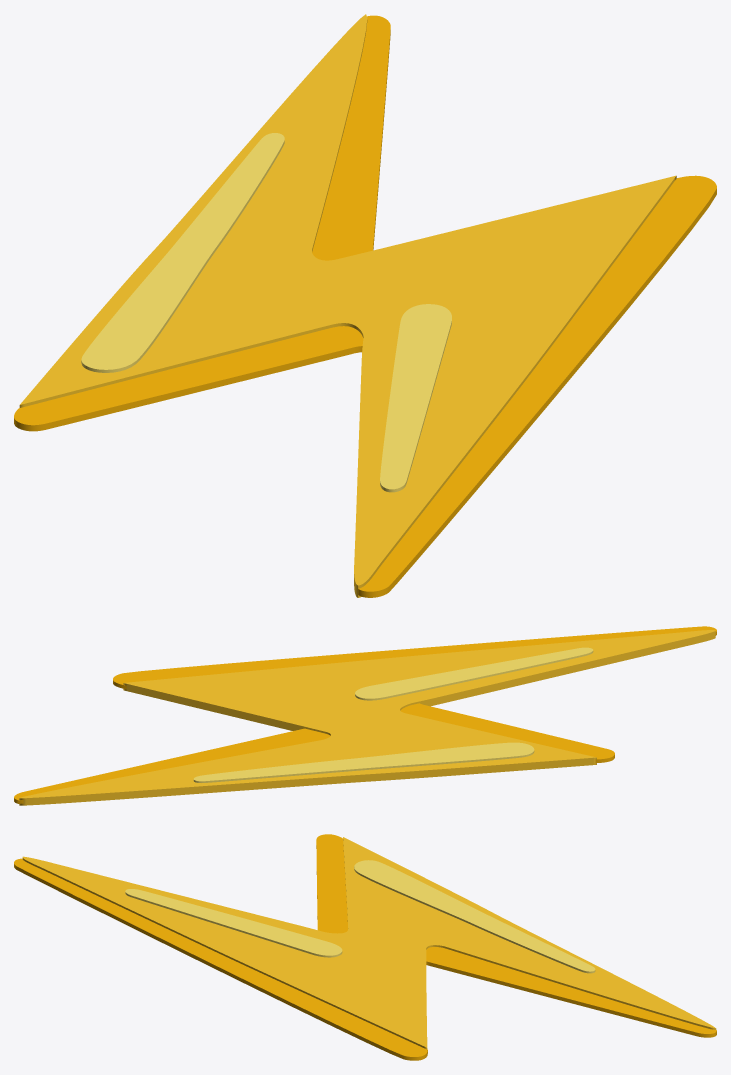
Rendered from emoji_u26a1.glb.
The picture shows the model from 3 angles, top to bottom: view 1: azimuth 30°, elevation 25°; view 2: azimuth 150°, elevation 25°; view 3: azimuth 270°, elevation 25°; orthographic projection. The views are drawn at different scales.
Visible parts, largest first — view 1: emoji_u26a1; view 2: emoji_u26a1; view 3: emoji_u26a1.
Part boxes in pixels (x1,y1,x2,y2): emoji_u26a1: [14, 14, 716, 597]; emoji_u26a1: [14, 626, 716, 805]; emoji_u26a1: [14, 834, 716, 1060].
Bounding box in the file's own units: 0.0259 × 0.0006 × 0.0345.
